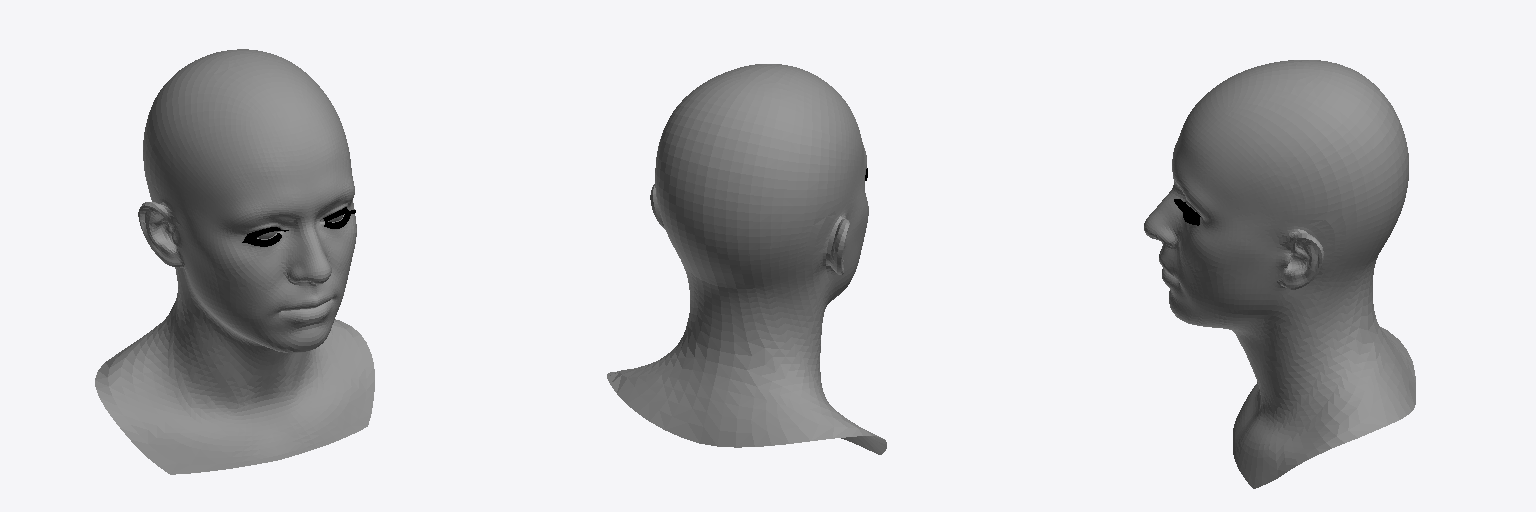
Rendered from eyeLookOut_L.obj.
3 views of the same model, side by side, from view 1: azimuth 30°, elevation 25°; view 2: azimuth 150°, elevation 25°; view 3: azimuth 270°, elevation 25° (orthographic).
Size of the model in its own units: 24.83 by 33.81 by 22.32.